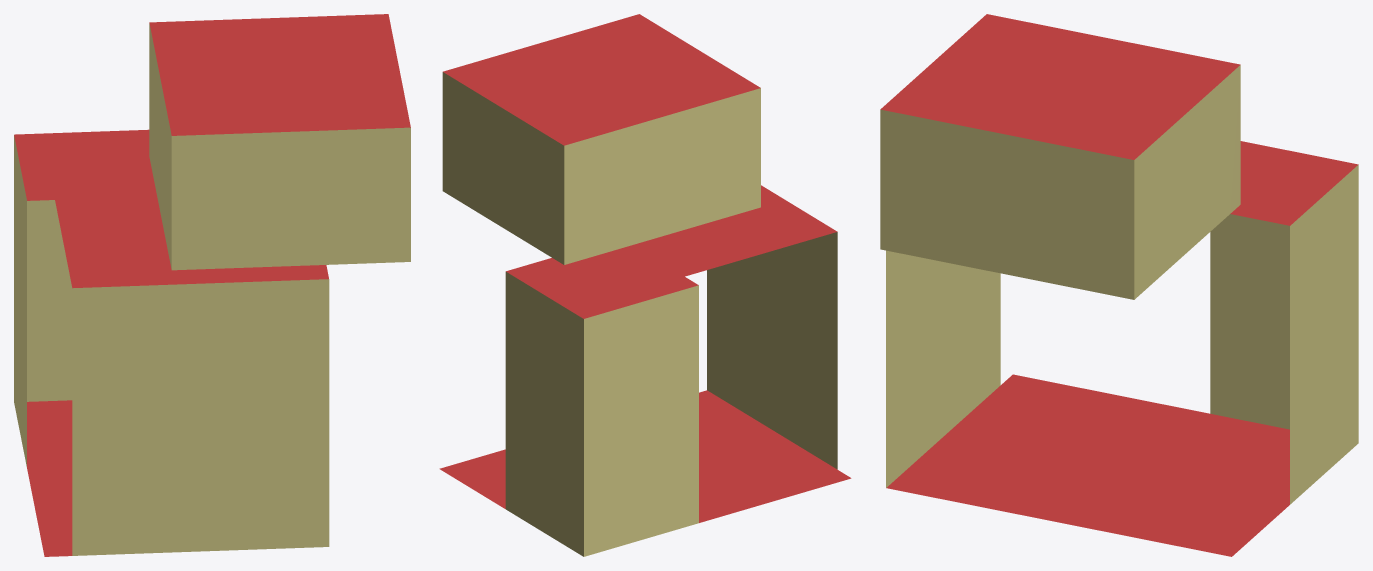
The picture shows the model from 3 angles, left to right: view 1: azimuth 30°, elevation 25°; view 2: azimuth 150°, elevation 25°; view 3: azimuth 270°, elevation 25°; orthographic projection. The views are drawn at different scales.
Bounding box in the file's own units: 9.71 × 9.6 × 9.27.
